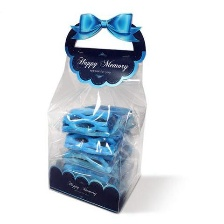snack: (39, 6, 153, 220)
